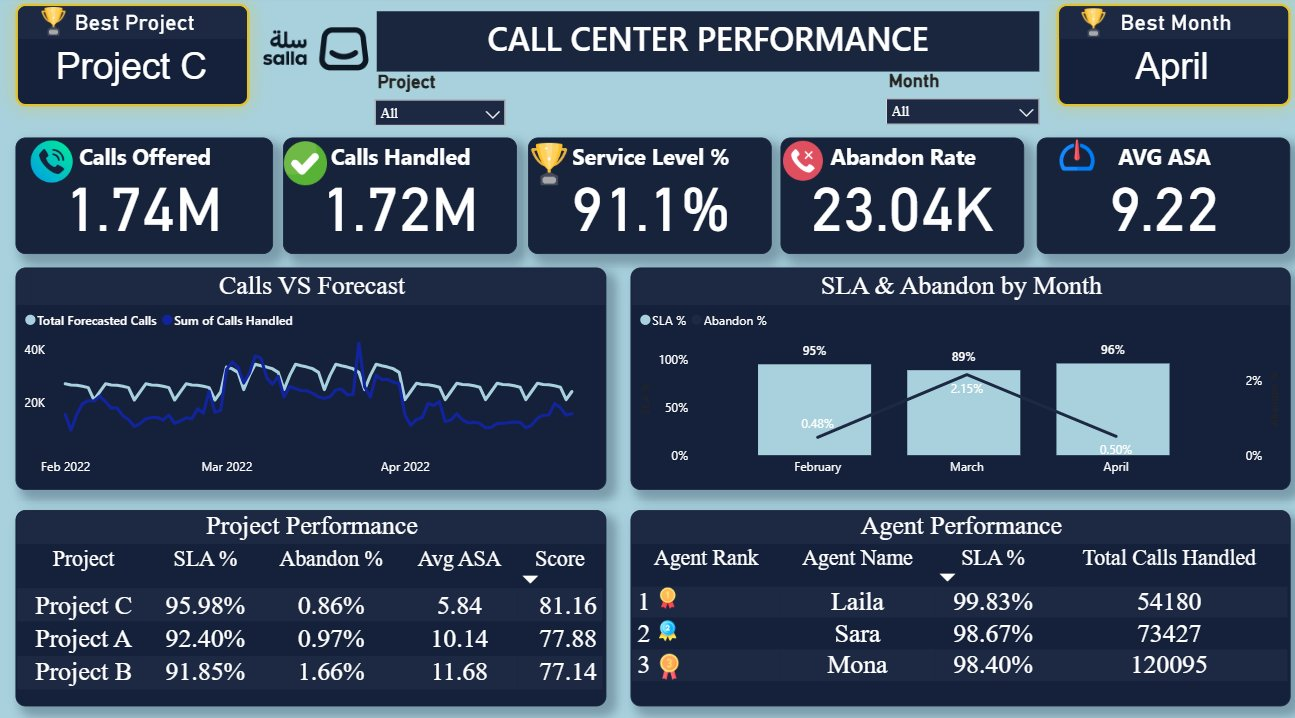

What the dashboard file says about the page in this screenshot:
{"tool":"powerbi","page":{"name":"Page 1","canvas":[1280,720],"ordinal":0},"visuals":[{"type":"textbox","box":[376.7,16,650.3,58.9],"z":0},{"type":"advanceCardE03760C5AB684758B56AA29F9E6C257B","title":"Calls Offered","fields":{"mainMeasure":["Fact_CallCenter.Total Calls Offered"]},"box":[22.1,139.9,252.8,114.1],"z":1000},{"type":"image","box":[35.8,140.4,44.2,46.6],"z":2000},{"type":"advanceCardE03760C5AB684758B56AA29F9E6C257B","title":"Calls Handled","fields":{"mainMeasure":["Fact_CallCenter.Total Calls Handled"]},"box":[284.7,139.9,229.4,114.1],"z":3000},{"type":"image","box":[284.9,144,44.2,42.9],"z":4000},{"type":"advanceCardE03760C5AB684758B56AA29F9E6C257B","title":"Service Level %","fields":{"mainMeasure":["Fact_CallCenter.Service Level"]},"box":[525.2,139.9,239.3,114.1],"z":5000},{"type":"image","box":[525.4,144,41.7,45.4],"z":6000},{"type":"advanceCardE03760C5AB684758B56AA29F9E6C257B","title":"Abandon Rate","fields":{"mainMeasure":["Fact_CallCenter.Total Abandoned Calls"]},"box":[773,139.9,239.3,114.1],"z":7000},{"type":"image","box":[775.5,142.3,39.3,40.5],"z":8000},{"type":"advanceCardE03760C5AB684758B56AA29F9E6C257B","title":"AVG ASA","fields":{"mainMeasure":["Fact_CallCenter.Avg ASA"]},"box":[1024.5,139.9,249.1,114.1],"z":9000},{"type":"image","box":[1040.7,140.4,47.9,34.4],"z":10000},{"type":"lineChart","title":"Calls VS Forecast","fields":{"Y":["Fact_CallCenter.Total Forecasted Calls","Sum(Fact_CallCenter.Calls Handled)"],"Category":["Dim_Date.Date.Variation.Date Hierarchy.Year","Dim_Date.Date.Variation.Date Hierarchy.Quarter","Dim_Date.Date.Variation.Date Hierarchy.Month","Dim_Date.Date.Variation.Date Hierarchy.Day"]},"box":[22.1,267.5,580.4,218.4],"z":11000},{"type":"lineClusteredColumnComboChart","title":"SLA & Abandon by Month","fields":{"Category":["Dim_Date.Date.Variation.Date Hierarchy.Month"],"Y":["Fact_CallCenter.SLA %"],"Y2":["Fact_CallCenter.Abandon %"]},"box":[625.8,267.5,647.9,218.4],"z":12000},{"type":"tableEx","title":"Project Performance","fields":{"Values":["Fact_CallCenter.Project","Fact_CallCenter.SLA %","Fact_CallCenter.Abandon %","Fact_CallCenter.Avg ASA","Fact_CallCenter.Score"]},"box":[22.1,505.5,580.4,192.6],"z":13000},{"type":"advanceCardE03760C5AB684758B56AA29F9E6C257B","title":"Best Project","fields":{"mainMeasure":["Fact_CallCenter.Best Project"]},"box":[22.1,8.6,229.4,100.6],"z":14000},{"type":"tableEx","title":"Agent Performance","fields":{"Values":["Fact_CallCenter.Agent Rank","Fact_CallCenter.Agent Name","Fact_CallCenter.SLA %","Fact_CallCenter.Total Calls Handled"]},"box":[625.8,505.5,647.9,192.6],"z":15000},{"type":"image","box":[45.4,8.6,28.2,34.4],"z":16000},{"type":"advanceCardE03760C5AB684758B56AA29F9E6C257B","title":"Best Month","fields":{"mainMeasure":["Fact_CallCenter.Best Month Name"]},"box":[1044.2,8.6,229.4,100.6],"z":17000},{"type":"image","box":[1066.7,9.8,28.2,34.4],"z":18000},{"type":"slicer","fields":{"Values":["Fact_CallCenter.Month Name"]},"box":[866.3,68.7,170.6,63.8],"z":19000},{"type":"slicer","fields":{"Values":["Fact_CallCenter.Project"]},"box":[364.4,69.9,148.5,66.3],"z":20000},{"type":"image","box":[650.3,581.6,23.3,20.9],"z":21000},{"type":"image","box":[650.3,613.5,24.5,20.9],"z":22000},{"type":"image","box":[650.3,646.6,27,25.8],"z":23000},{"type":"image","box":[223.3,0,184.1,109.2],"z":24000}]}

Visuals, with their boxes in screenshot pixels (x1, y1, x2, y2), scaled from the page's 1280x720 canvas onto the 1295x718 screenshot:
textbox: {"left": 381, "top": 16, "right": 1039, "bottom": 75}
"Calls Offered" advanceCardE03760C5AB684758B56AA29F9E6C257B: {"left": 22, "top": 140, "right": 278, "bottom": 253}
image: {"left": 36, "top": 140, "right": 81, "bottom": 186}
"Calls Handled" advanceCardE03760C5AB684758B56AA29F9E6C257B: {"left": 288, "top": 140, "right": 520, "bottom": 253}
image: {"left": 288, "top": 144, "right": 333, "bottom": 186}
"Service Level %" advanceCardE03760C5AB684758B56AA29F9E6C257B: {"left": 531, "top": 140, "right": 773, "bottom": 253}
image: {"left": 532, "top": 144, "right": 574, "bottom": 189}
"Abandon Rate" advanceCardE03760C5AB684758B56AA29F9E6C257B: {"left": 782, "top": 140, "right": 1024, "bottom": 253}
image: {"left": 785, "top": 142, "right": 824, "bottom": 182}
"AVG ASA" advanceCardE03760C5AB684758B56AA29F9E6C257B: {"left": 1037, "top": 140, "right": 1289, "bottom": 253}
image: {"left": 1053, "top": 140, "right": 1101, "bottom": 174}
"Calls VS Forecast" lineChart: {"left": 22, "top": 267, "right": 610, "bottom": 485}
"SLA & Abandon by Month" lineClusteredColumnComboChart: {"left": 633, "top": 267, "right": 1289, "bottom": 485}
"Project Performance" tableEx: {"left": 22, "top": 504, "right": 610, "bottom": 696}
"Best Project" advanceCardE03760C5AB684758B56AA29F9E6C257B: {"left": 22, "top": 9, "right": 254, "bottom": 109}
"Agent Performance" tableEx: {"left": 633, "top": 504, "right": 1289, "bottom": 696}
image: {"left": 46, "top": 9, "right": 74, "bottom": 43}
"Best Month" advanceCardE03760C5AB684758B56AA29F9E6C257B: {"left": 1056, "top": 9, "right": 1289, "bottom": 109}
image: {"left": 1079, "top": 10, "right": 1108, "bottom": 44}
slicer - Fact_CallCenter.Month Name: {"left": 876, "top": 69, "right": 1049, "bottom": 132}
slicer - Fact_CallCenter.Project: {"left": 369, "top": 70, "right": 519, "bottom": 136}
image: {"left": 658, "top": 580, "right": 681, "bottom": 601}
image: {"left": 658, "top": 612, "right": 683, "bottom": 633}
image: {"left": 658, "top": 645, "right": 685, "bottom": 671}
image: {"left": 226, "top": 0, "right": 412, "bottom": 109}
